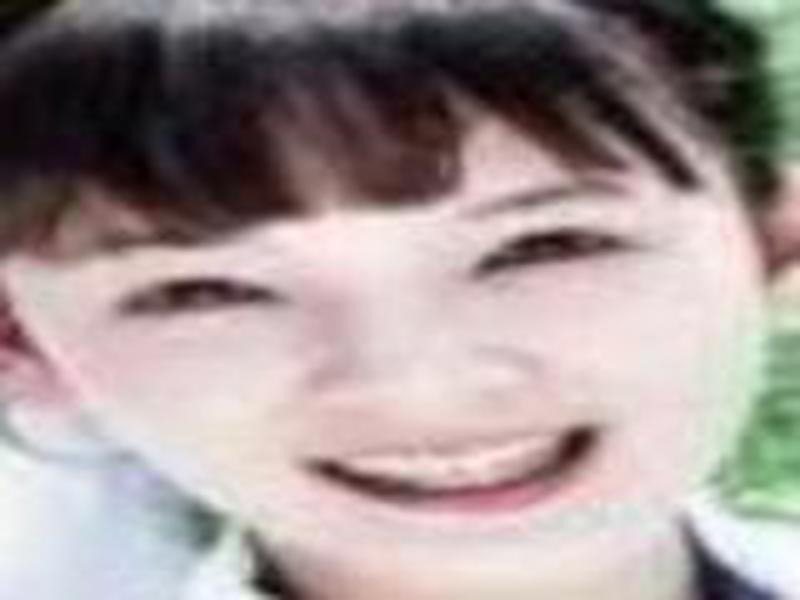without_mask: (1, 57, 770, 591)
